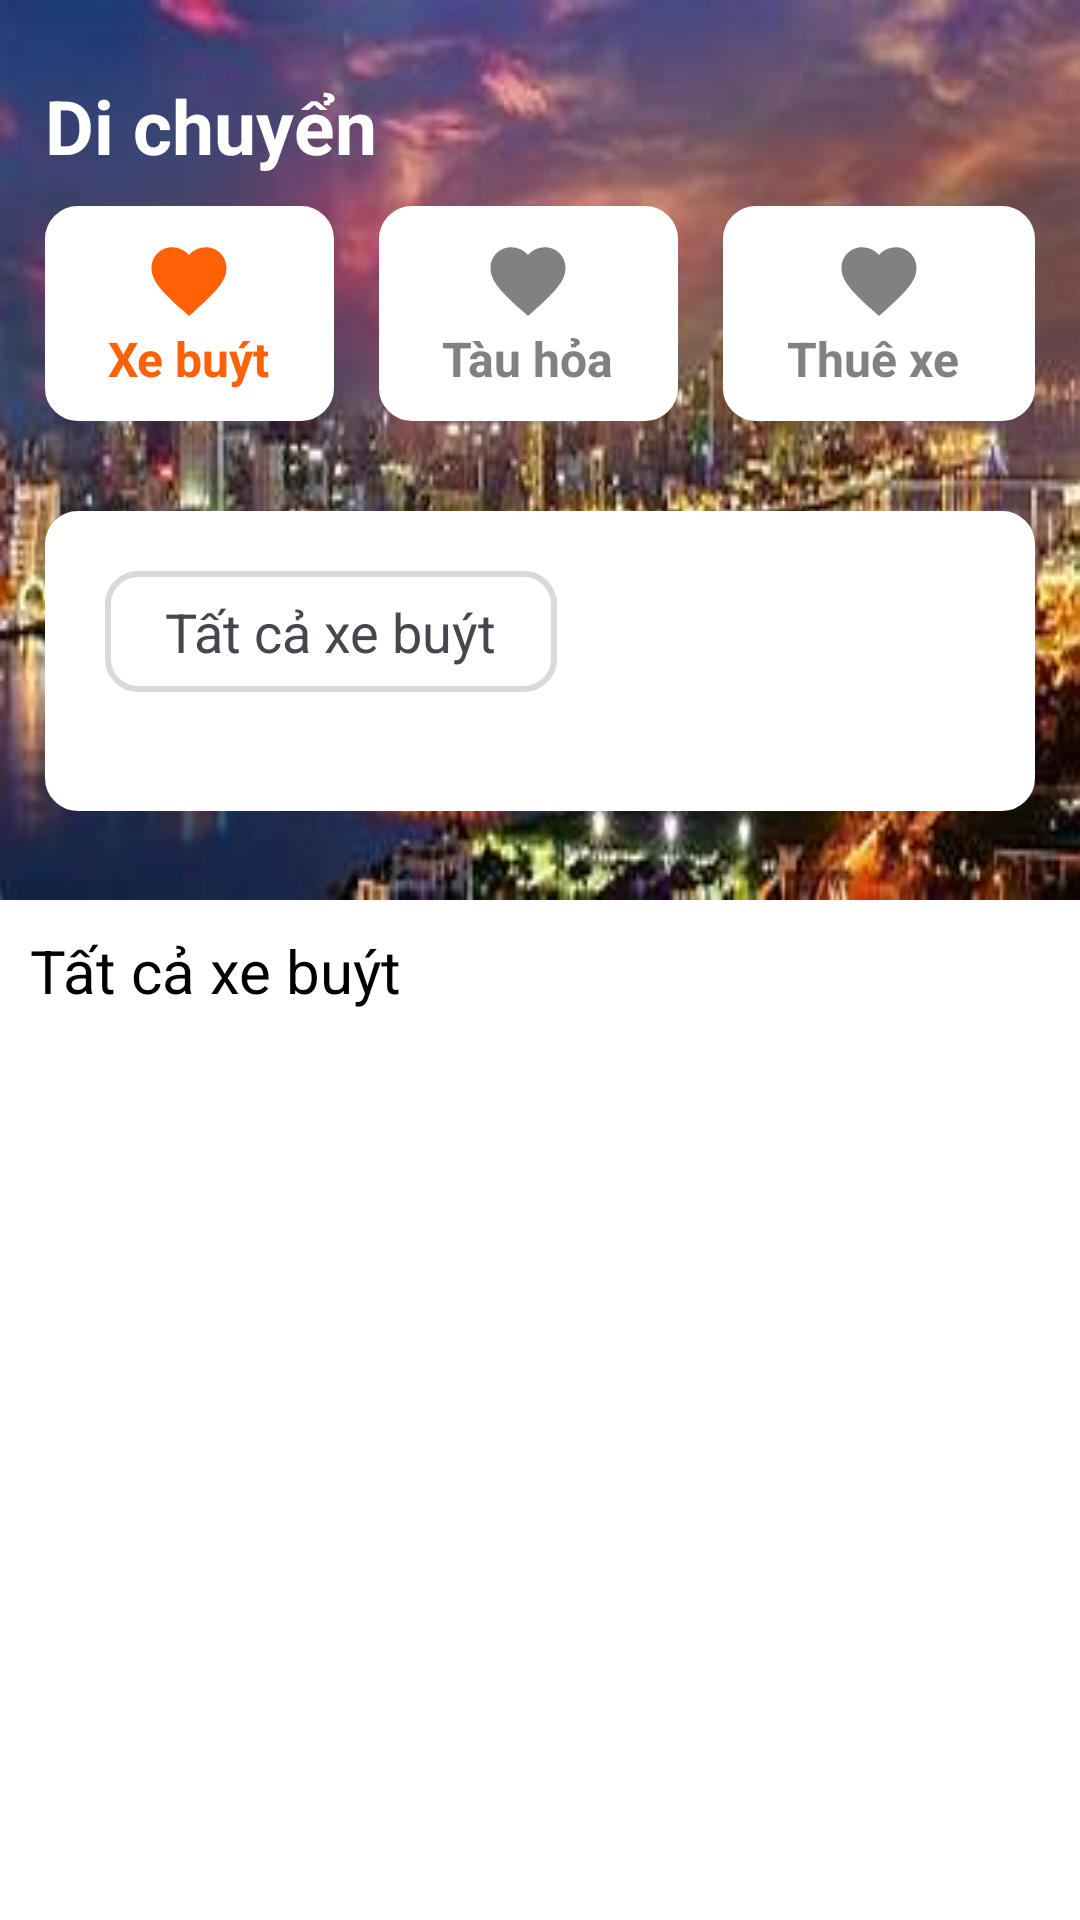

Screen size 1080*1920. Icon name, then its center in pixels as (x=x, y=y):
favorite: (x=189, y=281), (x=528, y=281), (x=879, y=281)
